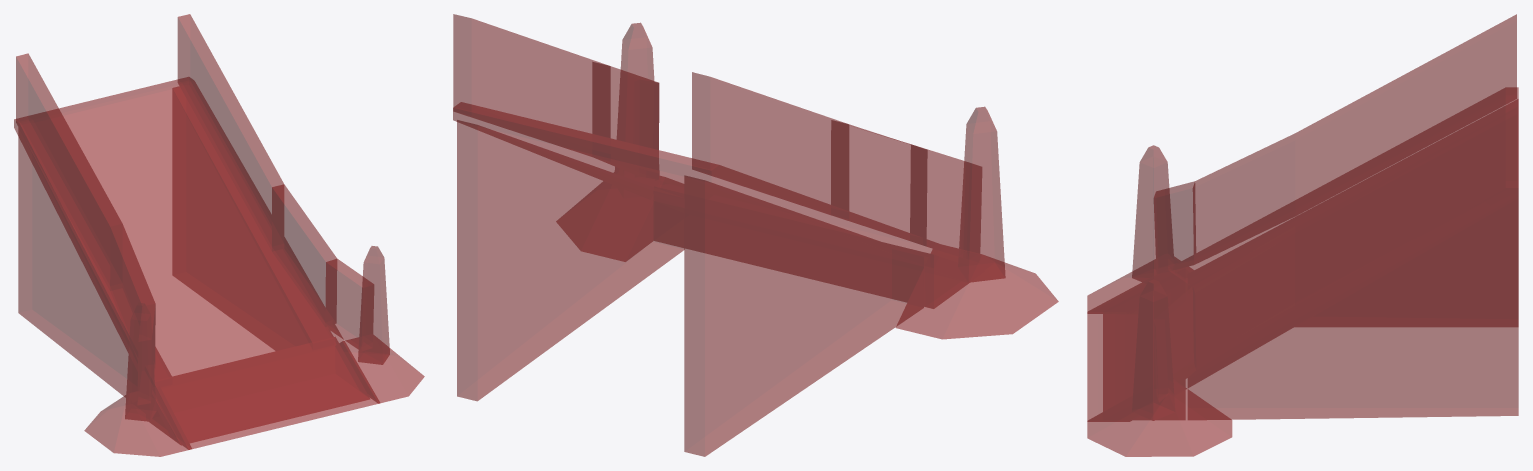
Rendered from SM_Bld_Base_Stairs_Ornate_01_Collision.fbx.
3 views of the same model, side by side, from view 1: azimuth 30°, elevation 25°; view 2: azimuth 150°, elevation 25°; view 3: azimuth 270°, elevation 25° (orthographic). The views are drawn at different scales.
Parts seen in each view (by area): view 1: SM_Bld_Base_Stairs_Ornate_01_Collision; view 2: SM_Bld_Base_Stairs_Ornate_01_Collision; view 3: SM_Bld_Base_Stairs_Ornate_01_Collision.
Boxes of the visible parts, bbox=[...] form: SM_Bld_Base_Stairs_Ornate_01_Collision: bbox=[14, 14, 424, 456]; SM_Bld_Base_Stairs_Ornate_01_Collision: bbox=[453, 14, 1058, 456]; SM_Bld_Base_Stairs_Ornate_01_Collision: bbox=[1087, 14, 1518, 456].
Size of the model in its own units: 505 by 399 by 514.
